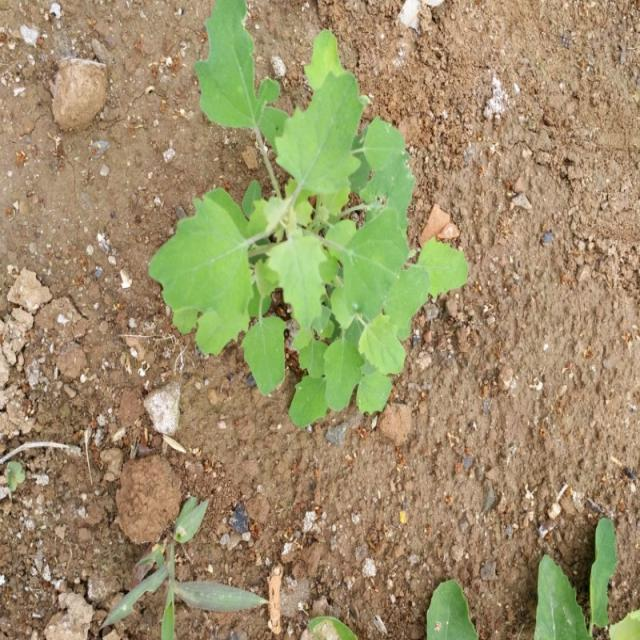ca: (147, 0, 432, 429)
